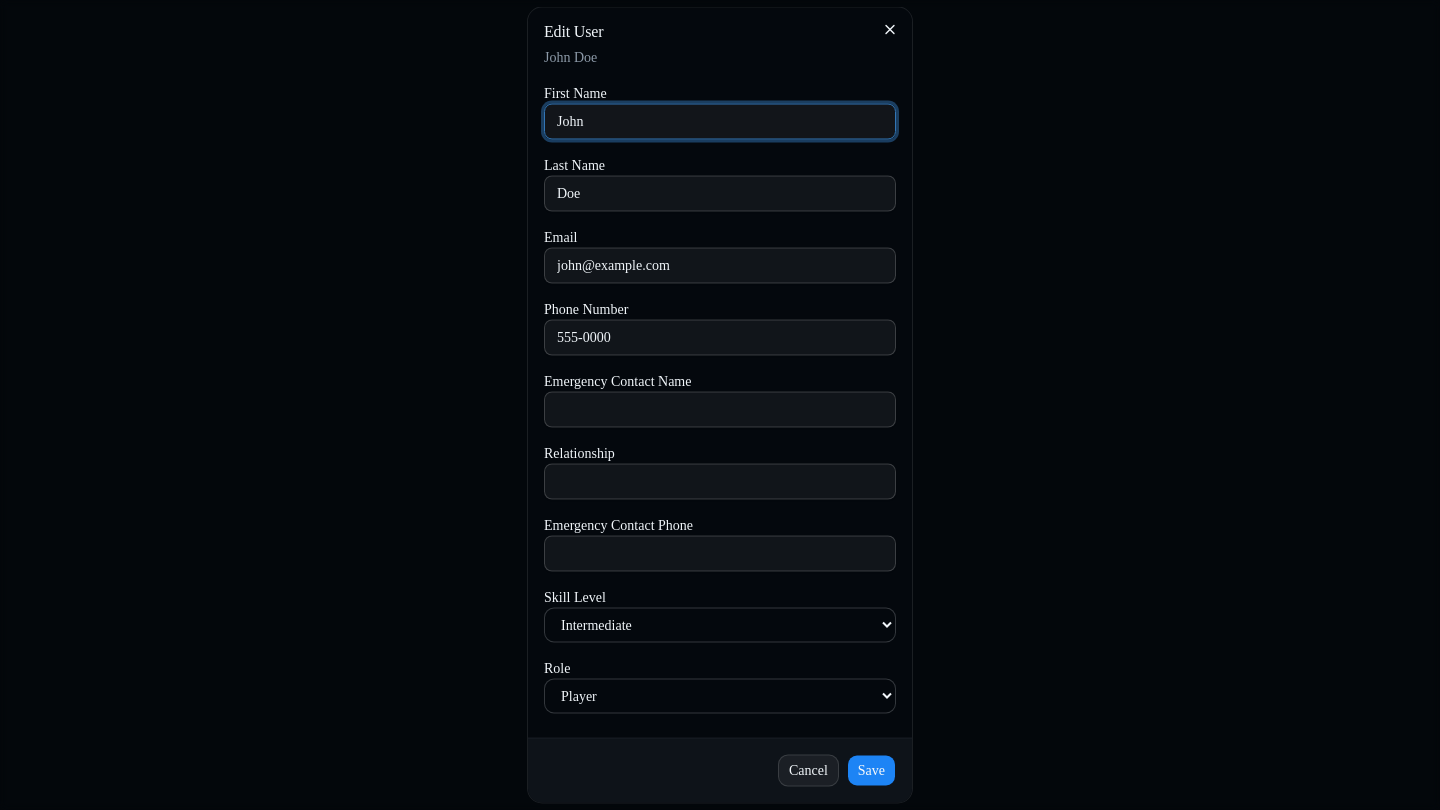
EditUserModal › shows confirmation dialog when role changes
The image size is (1440, 810).
# Change role dropdown
Select "Facilitator" in the dropdown with id "role" at {"x": 720, "y": 696}, box [544, 678, 896, 714]
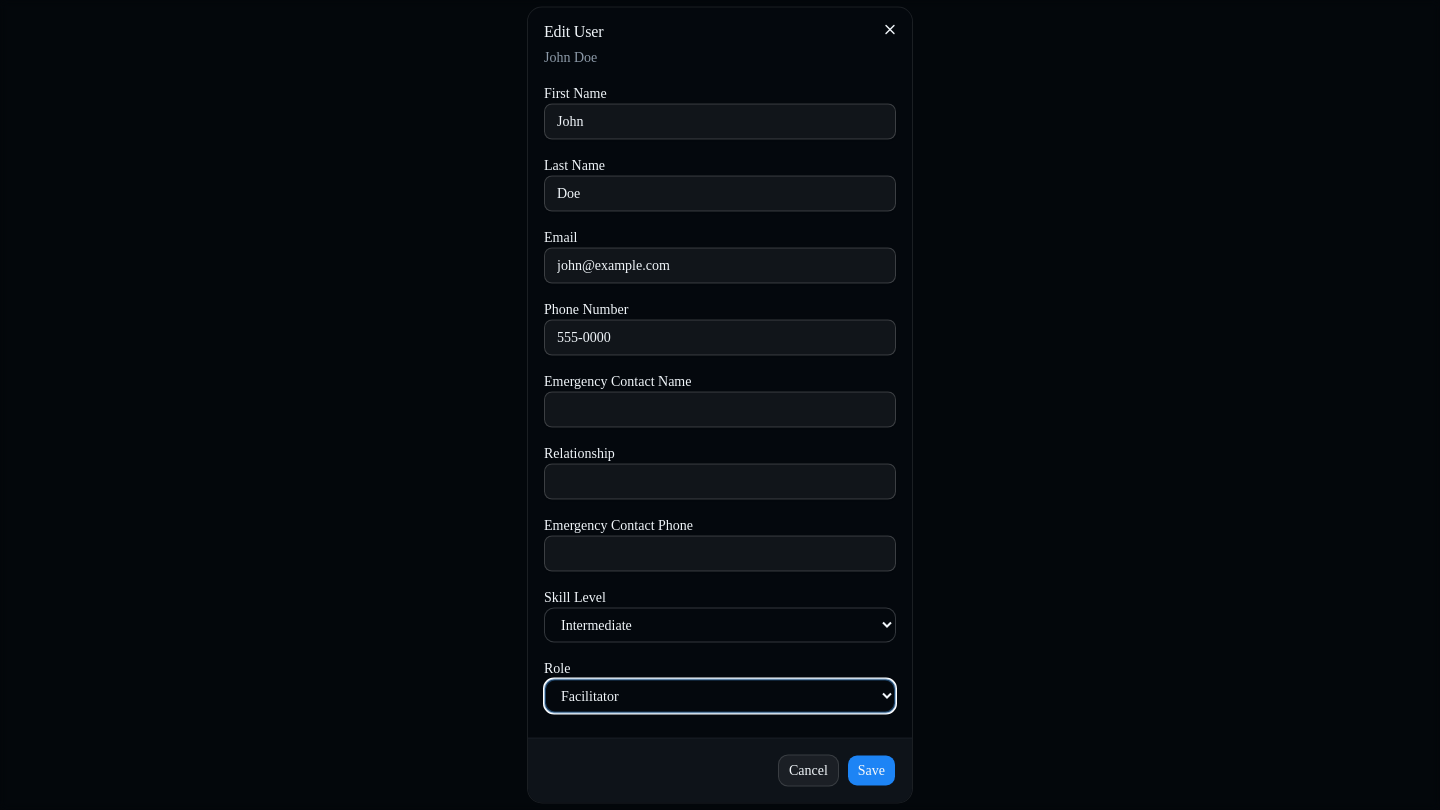
# Click save
Click the button "Save" at {"x": 871, "y": 770}, box [847, 754, 896, 786]
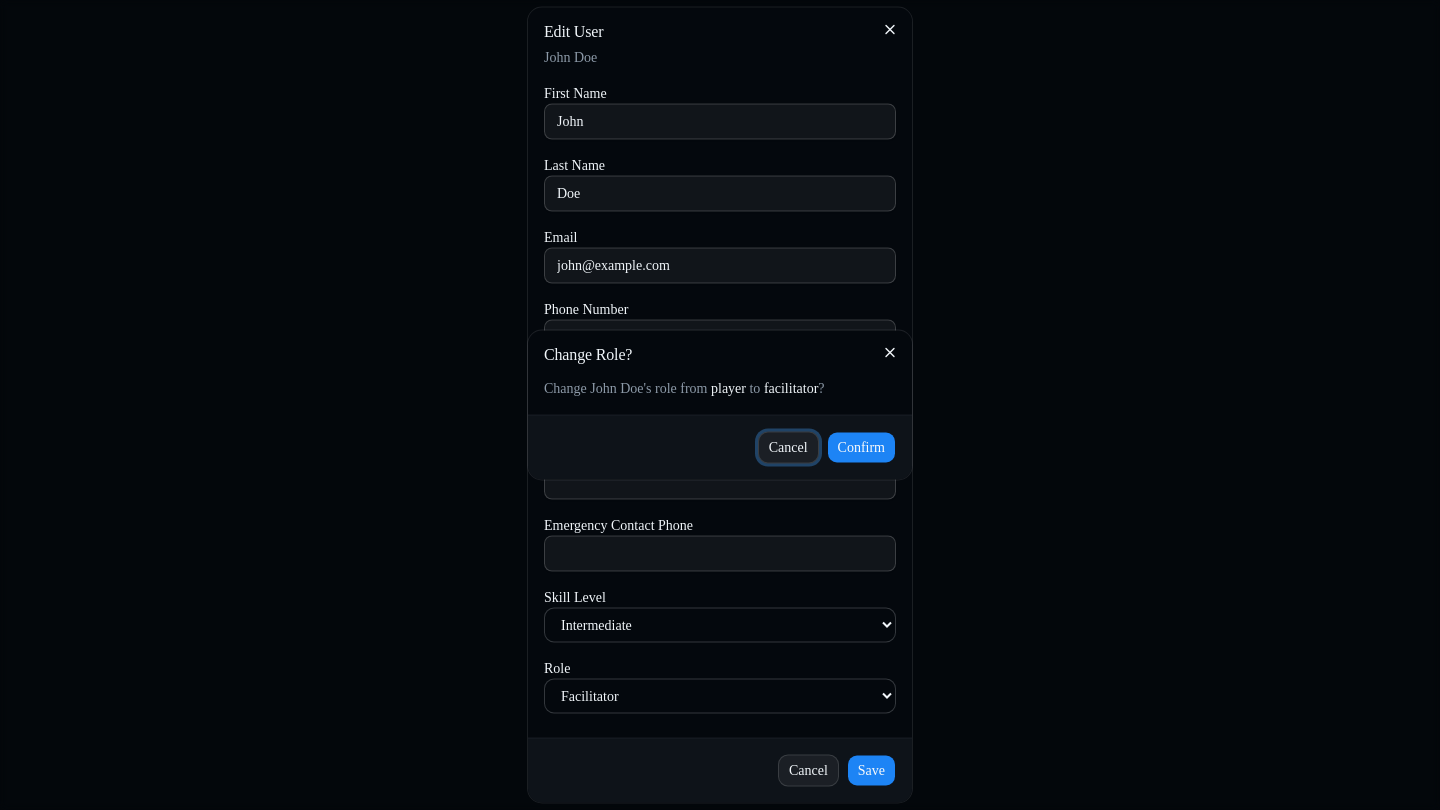
Result: the heading "Change Role?" is shown at [544, 346, 632, 362]
